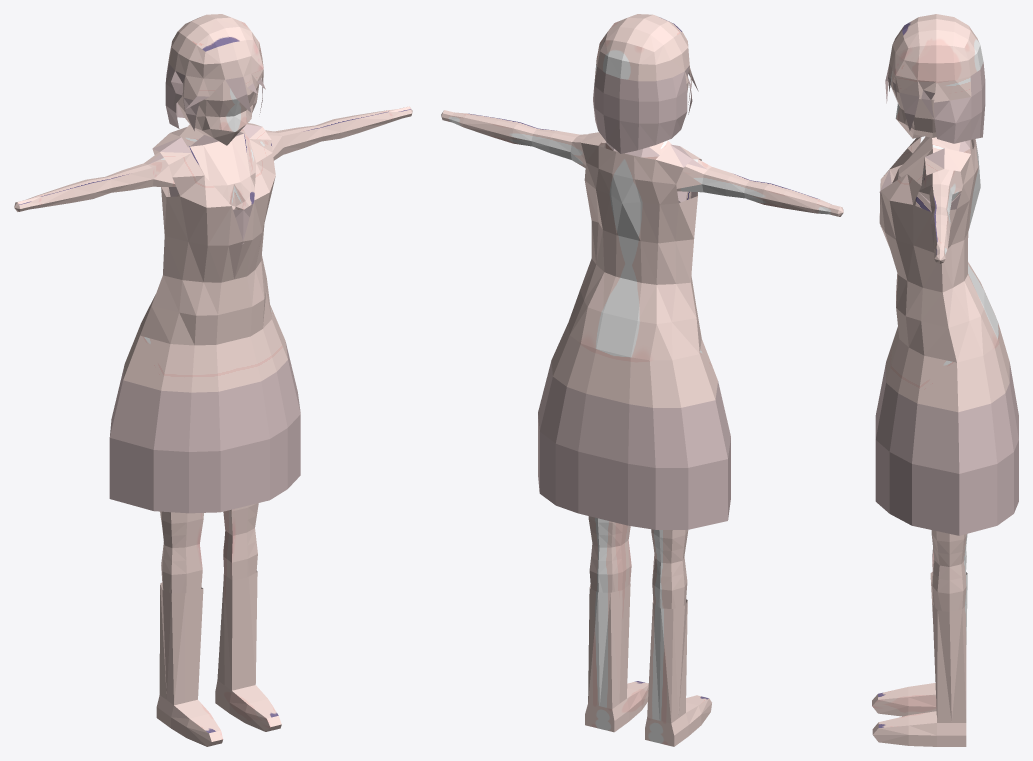
The model's file is girl4.obj.
The picture shows the model from 3 angles, left to right: view 1: azimuth 30°, elevation 25°; view 2: azimuth 150°, elevation 25°; view 3: azimuth 270°, elevation 25°; orthographic projection.
Visible parts, largest first — view 1: 立方体.001_立方体.007; view 2: 立方体.001_立方体.007; view 3: 立方体.001_立方体.007.
Boxes of the visible parts, x1,y1,x2,y2 form: 立方体.001_立方体.007: (14,14,412,746); 立方体.001_立方体.007: (441,14,843,746); 立方体.001_立方体.007: (872,14,1018,746).
Bounding box in the file's own units: 11.16 × 18.71 × 3.52.
